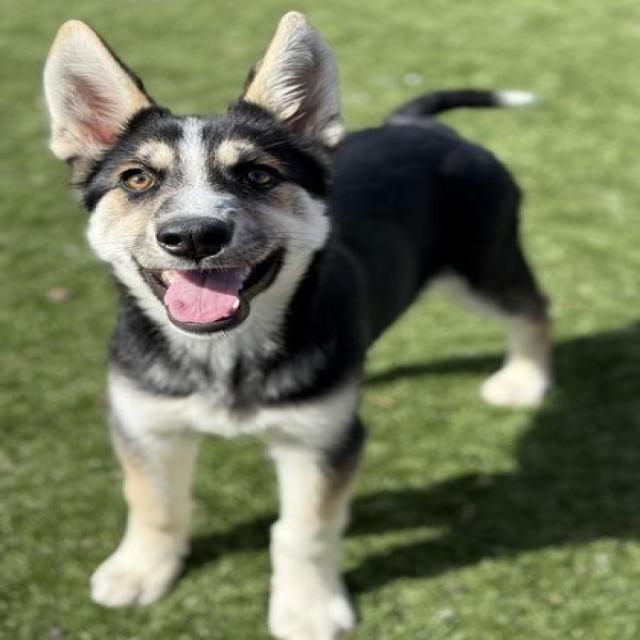siberian_husky_dog: (35, 4, 366, 366)
